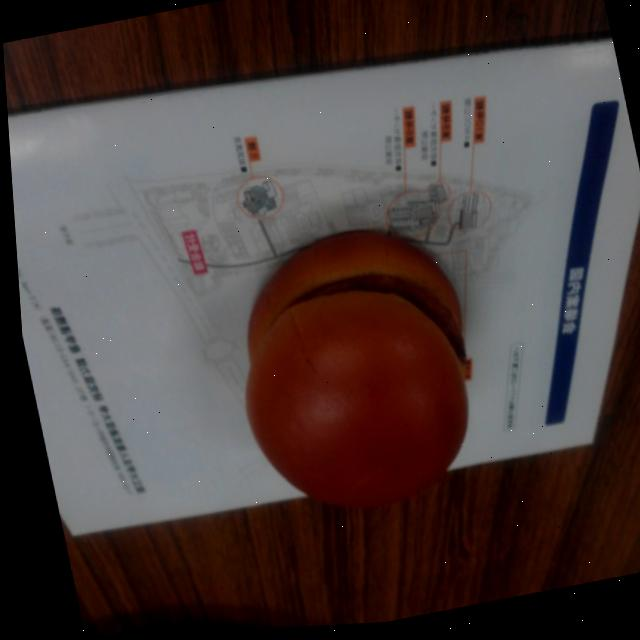汉堡快餐: (200, 272, 453, 547)
